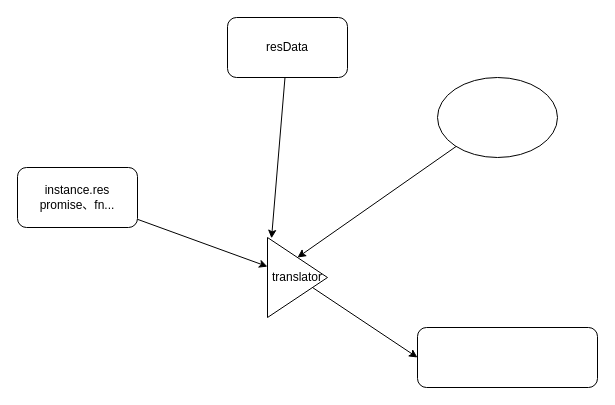
This 615x405 diagram has some shape labels left out. Each missing label, with the centre of its shape:
"context" belongs at [497,117].
"realRes json、string 、regEx" belongs at [507,357].
